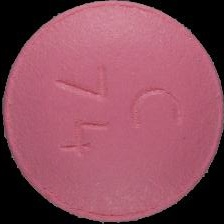54868-2989: (0, 0, 224, 224)
